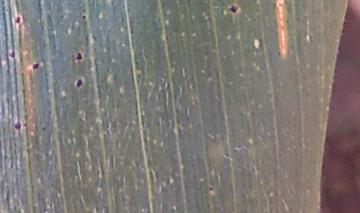tarspot: (227, 3, 239, 15), (74, 50, 83, 63), (75, 78, 84, 89), (31, 61, 39, 72), (14, 14, 21, 26), (13, 120, 21, 130), (8, 50, 16, 59), (83, 34, 89, 46), (21, 121, 29, 128), (207, 185, 214, 192), (81, 14, 87, 22), (40, 125, 46, 132)
